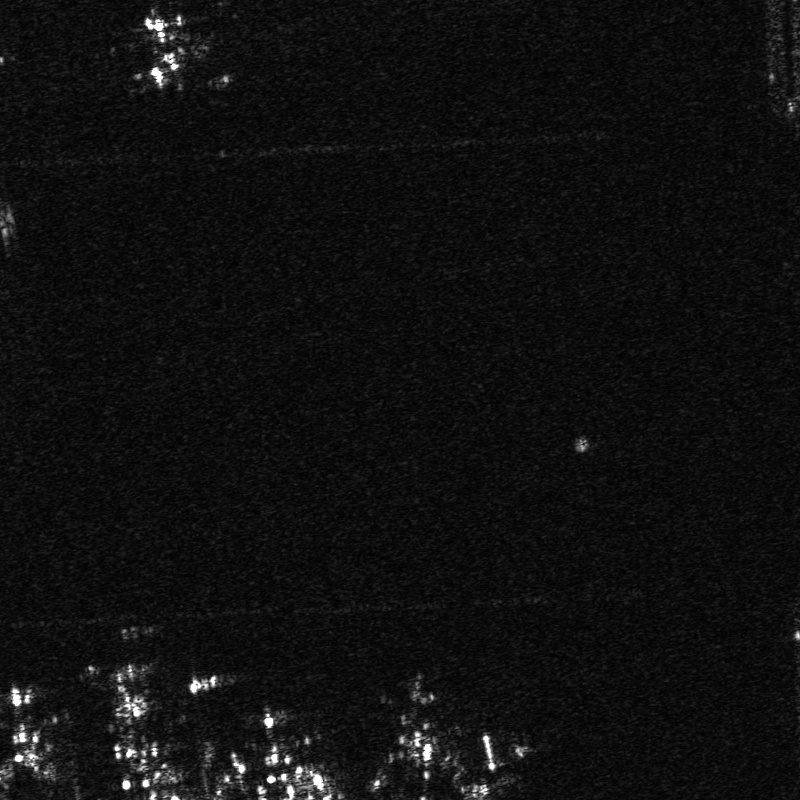A320/321: (104, 660, 180, 775), (381, 669, 450, 776), (245, 704, 308, 790)
other: (120, 7, 215, 97), (1, 682, 58, 783)
